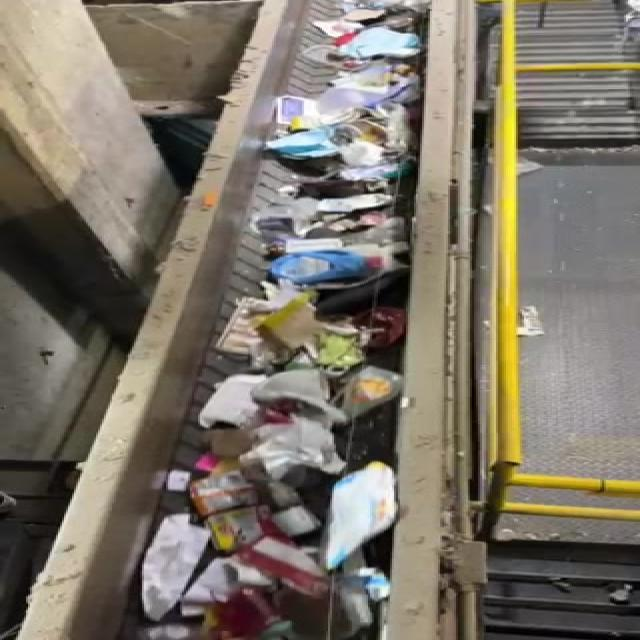hdpe: (318, 353, 416, 444), (325, 462, 401, 579)
paper: (130, 519, 208, 619)
pp: (174, 473, 278, 549)
